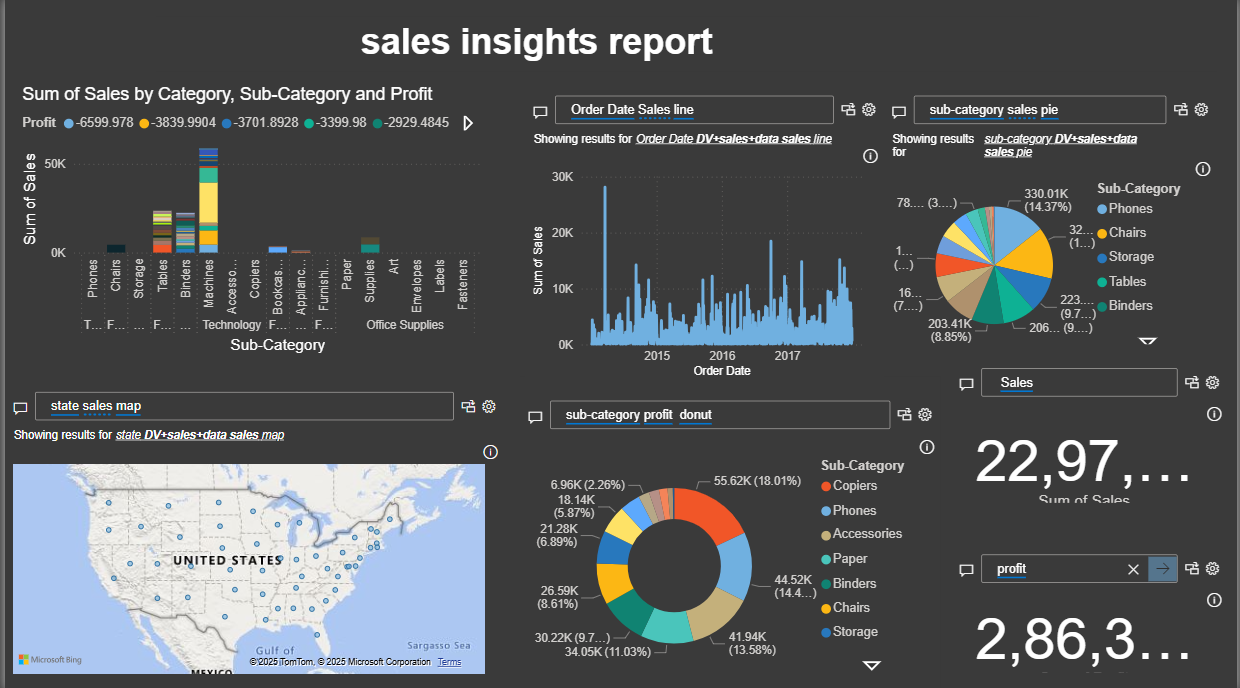

The dashboard page shown, as its layout file describes it:
{"tool":"powerbi","page":{"name":"Page 1","canvas":[1280,720],"ordinal":0},"visuals":[{"type":"qnaVisual","box":[535.1,393.2,436.5,327],"z":0},{"type":"qnaVisual","box":[0,384.4,518.2,336.4],"z":1000},{"type":"qnaVisual","box":[913,76.6,345.5,307.8],"z":2000},{"type":"lineStackedColumnComboChart","fields":{"Category":["DV+Sales+Data.Category","DV+Sales+Data.Sub-Category"],"Series":["DV+Sales+Data.Profit"],"Y":["Sum(DV+Sales+Data.Sales)"]},"box":[13,89.6,487,284.4],"z":3000},{"type":"qnaVisual","box":[540.3,76.6,372.7,336.4],"z":4000},{"type":"qnaVisual","box":[983.1,359.7,287,184.4],"z":5000},{"type":"qnaVisual","box":[983.1,553.2,287,166.2],"z":6001},{"type":"textbox","box":[157.1,19.5,916.9,57.1],"z":6002}]}

Visuals, with their boxes in screenshot pixels (x1, y1, x2, y2), scaled from the page's 1280x720 canvas onto the 1240x688 screenshot:
qnaVisual: <bbox>518, 376, 941, 687</bbox>
qnaVisual: <bbox>0, 367, 502, 687</bbox>
qnaVisual: <bbox>884, 73, 1219, 367</bbox>
lineStackedColumnComboChart - DV+Sales+Data.Category x DV+Sales+Data.Sub-Category: <bbox>13, 86, 484, 357</bbox>
qnaVisual: <bbox>523, 73, 884, 395</bbox>
qnaVisual: <bbox>952, 344, 1230, 520</bbox>
qnaVisual: <bbox>952, 529, 1230, 687</bbox>
textbox: <bbox>152, 19, 1040, 73</bbox>
